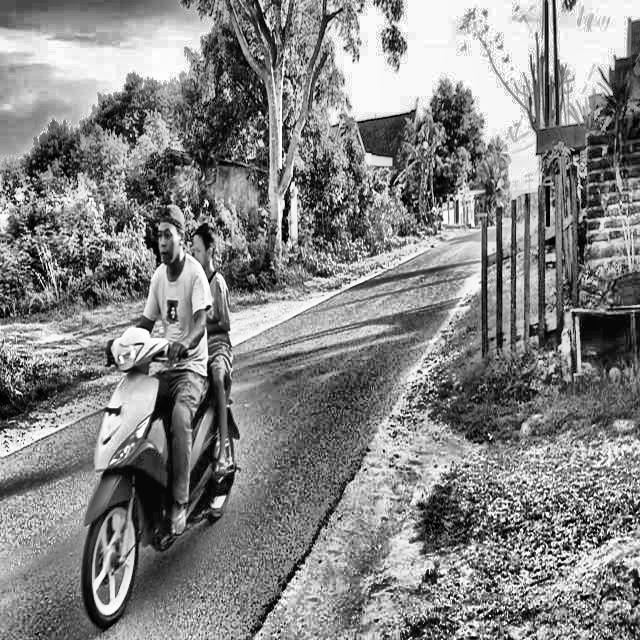motorcycle: (83, 319, 252, 628)
